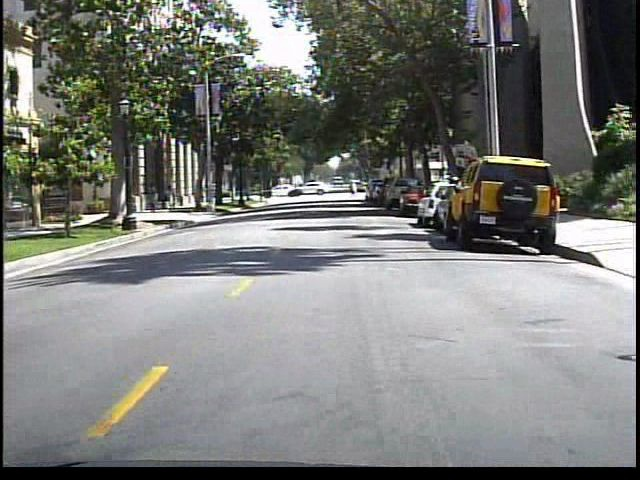person: (164, 181, 185, 214), (149, 179, 167, 213), (348, 179, 363, 201)
